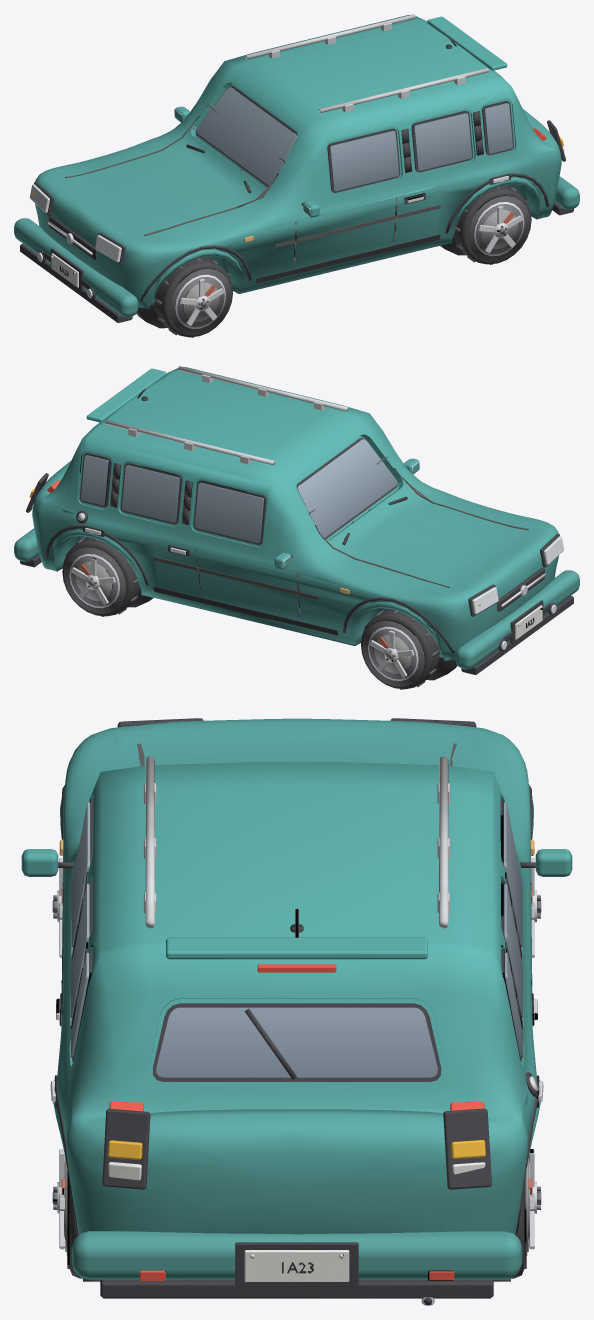
File: Rig_CarTeal.fbx
3 views of the same model, one above another, from view 1: azimuth 30°, elevation 25°; view 2: azimuth 150°, elevation 25°; view 3: azimuth 270°, elevation 25° (orthographic). The views are drawn at different scales.
Parts seen in each view (by area): view 1: Transito_CarTeal__Body, Transito_CarTeal__Wheel_F_L, Transito_CarTeal__Wheel_R_L; view 2: Transito_CarTeal__Body, Transito_CarTeal__Wheel_F_R, Transito_CarTeal__Wheel_R_R; view 3: Transito_CarTeal__Body, Transito_CarTeal__Wheel_R_L, Transito_CarTeal__Wheel_R_R.
Boxes of the visible parts, x1,y1,x2,y2 form: Transito_CarTeal__Body: (14, 14, 579, 328); Transito_CarTeal__Wheel_F_L: (154, 257, 232, 337); Transito_CarTeal__Wheel_R_L: (453, 185, 531, 264); Transito_CarTeal__Body: (14, 366, 579, 680); Transito_CarTeal__Wheel_F_R: (361, 609, 439, 689); Transito_CarTeal__Wheel_R_R: (62, 537, 140, 616); Transito_CarTeal__Body: (21, 718, 572, 1305); Transito_CarTeal__Wheel_R_L: (52, 1149, 100, 1281); Transito_CarTeal__Wheel_R_R: (493, 1149, 541, 1281).
Bounding box in the file's own units: 4.13 × 1.62 × 2.1.
